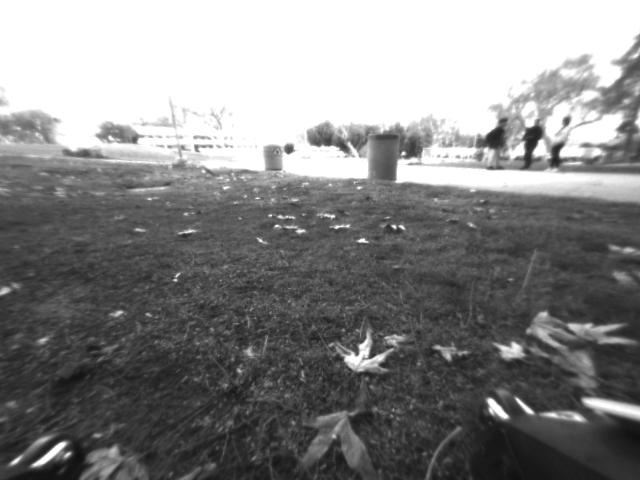trashcan: (370, 134, 400, 183), (264, 147, 287, 173)
